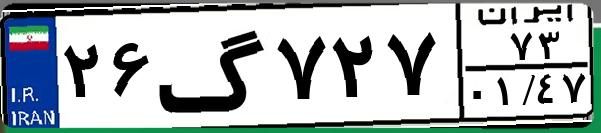0: (470, 70, 495, 125)
1: (495, 70, 520, 125)
2: (330, 28, 385, 110), (57, 26, 110, 100)
3: (537, 27, 568, 80)
4: (535, 70, 560, 125)
6: (110, 28, 156, 98)
7: (270, 28, 330, 110), (385, 28, 445, 110), (560, 70, 590, 125), (508, 27, 537, 80)
گ: (156, 12, 270, 120)
